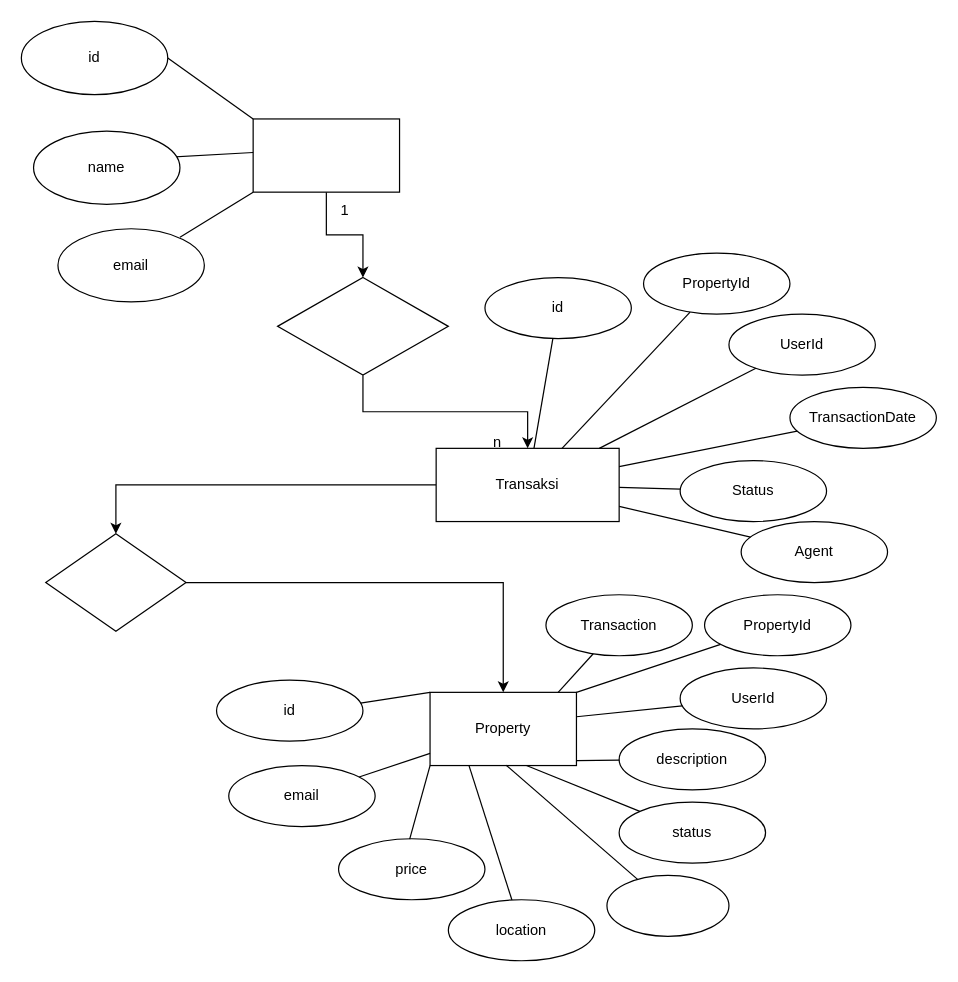
Some shapes in this 958 by 982 pixel diagram are drawn without their labels. The shapes that lost their labels are listed below. From the top down, each one's centre as x and y in pixels, then its label:
At pixel 326 155: "USER".
At pixel 362 325: "Melakukan".
At pixel 115 582: "di proses / didata".
At pixel 667 905: "size".
